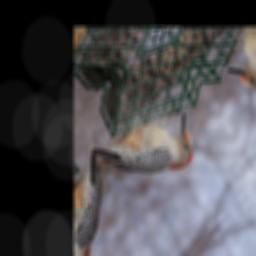Woodpecker: (93, 79, 205, 218)
